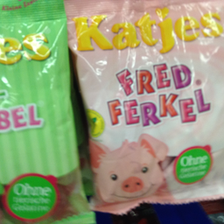candy: (66, 1, 224, 211)
